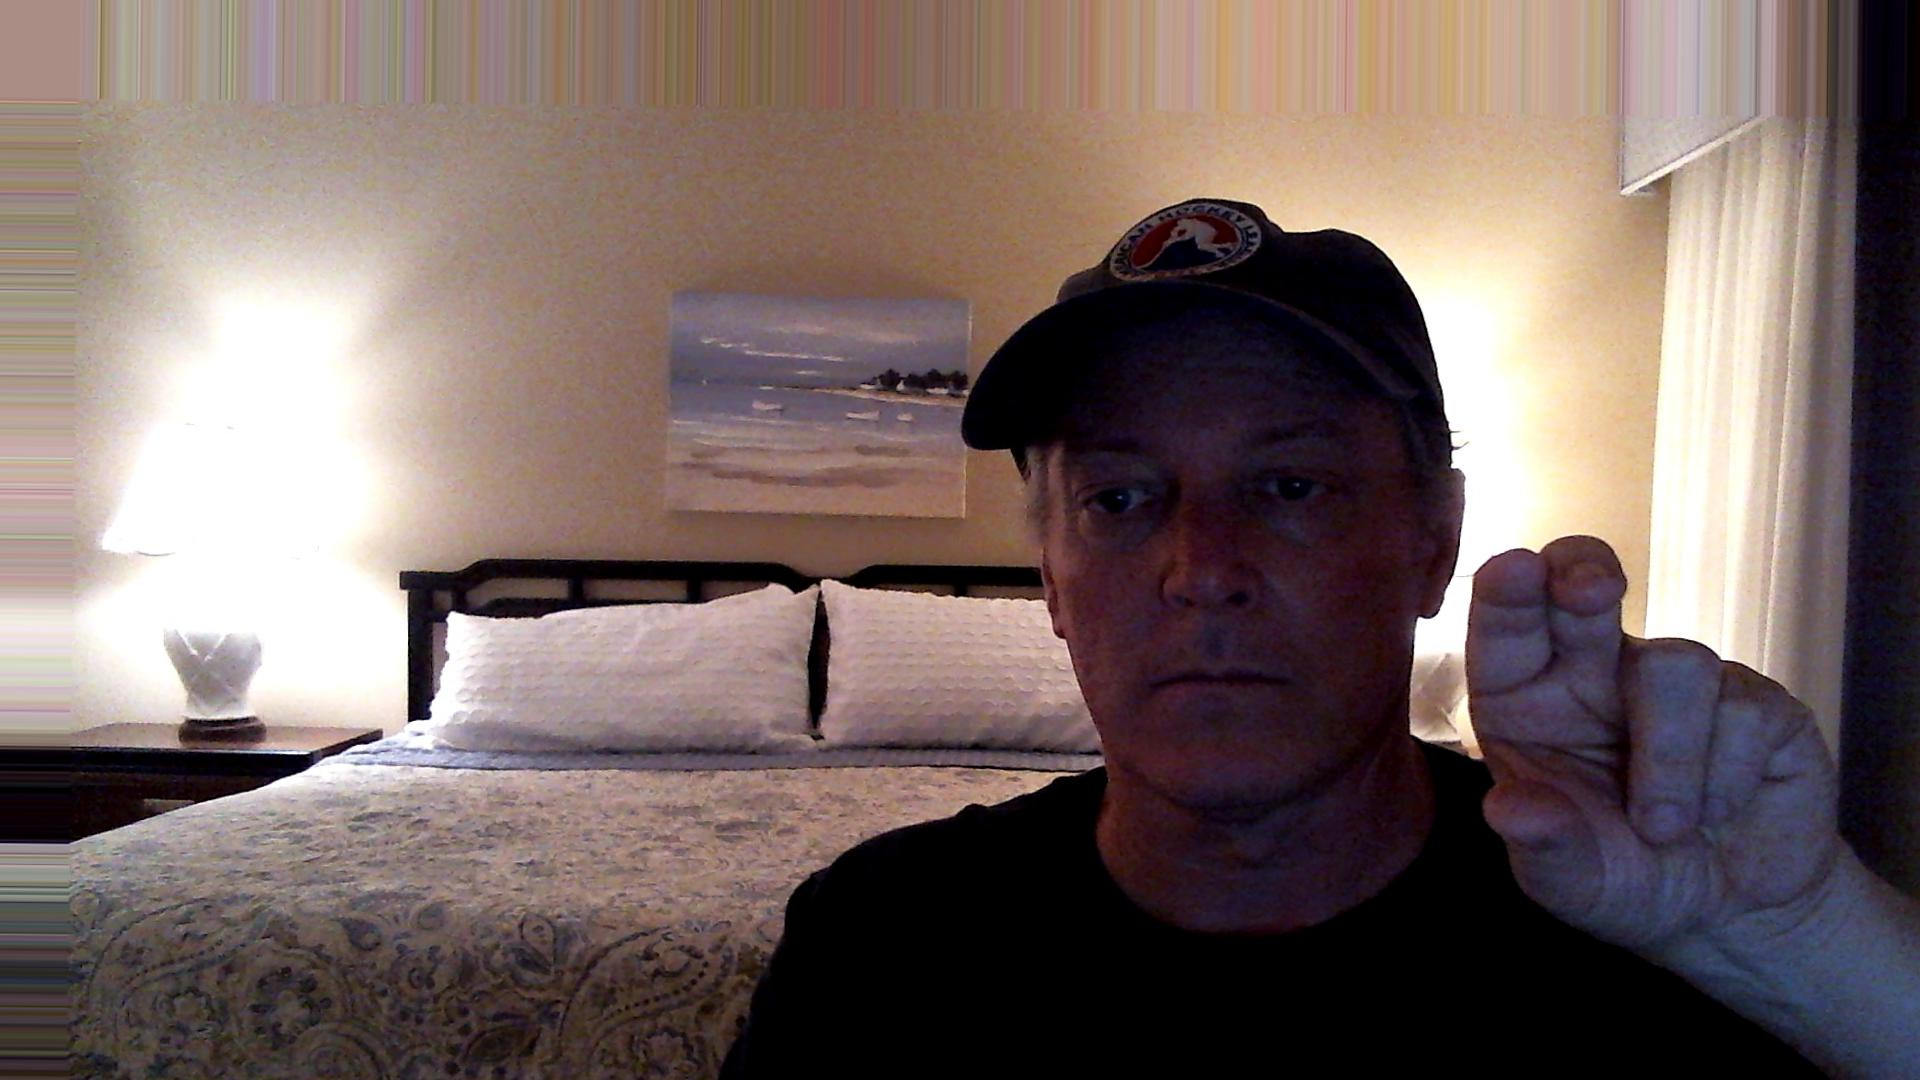No: (1423, 518, 1865, 976)
